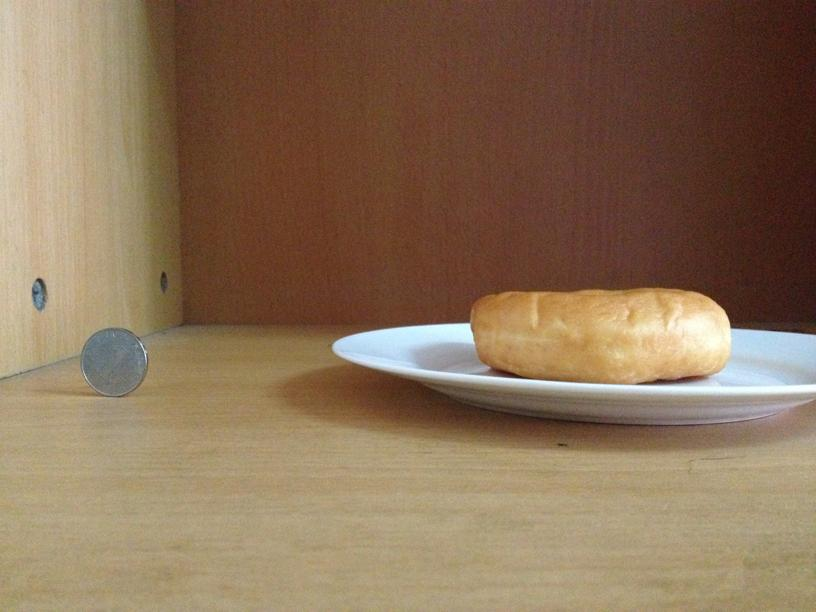coin: (80, 326, 146, 398)
doughnut: (471, 285, 731, 379)
